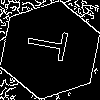T: (25, 25, 78, 64)
